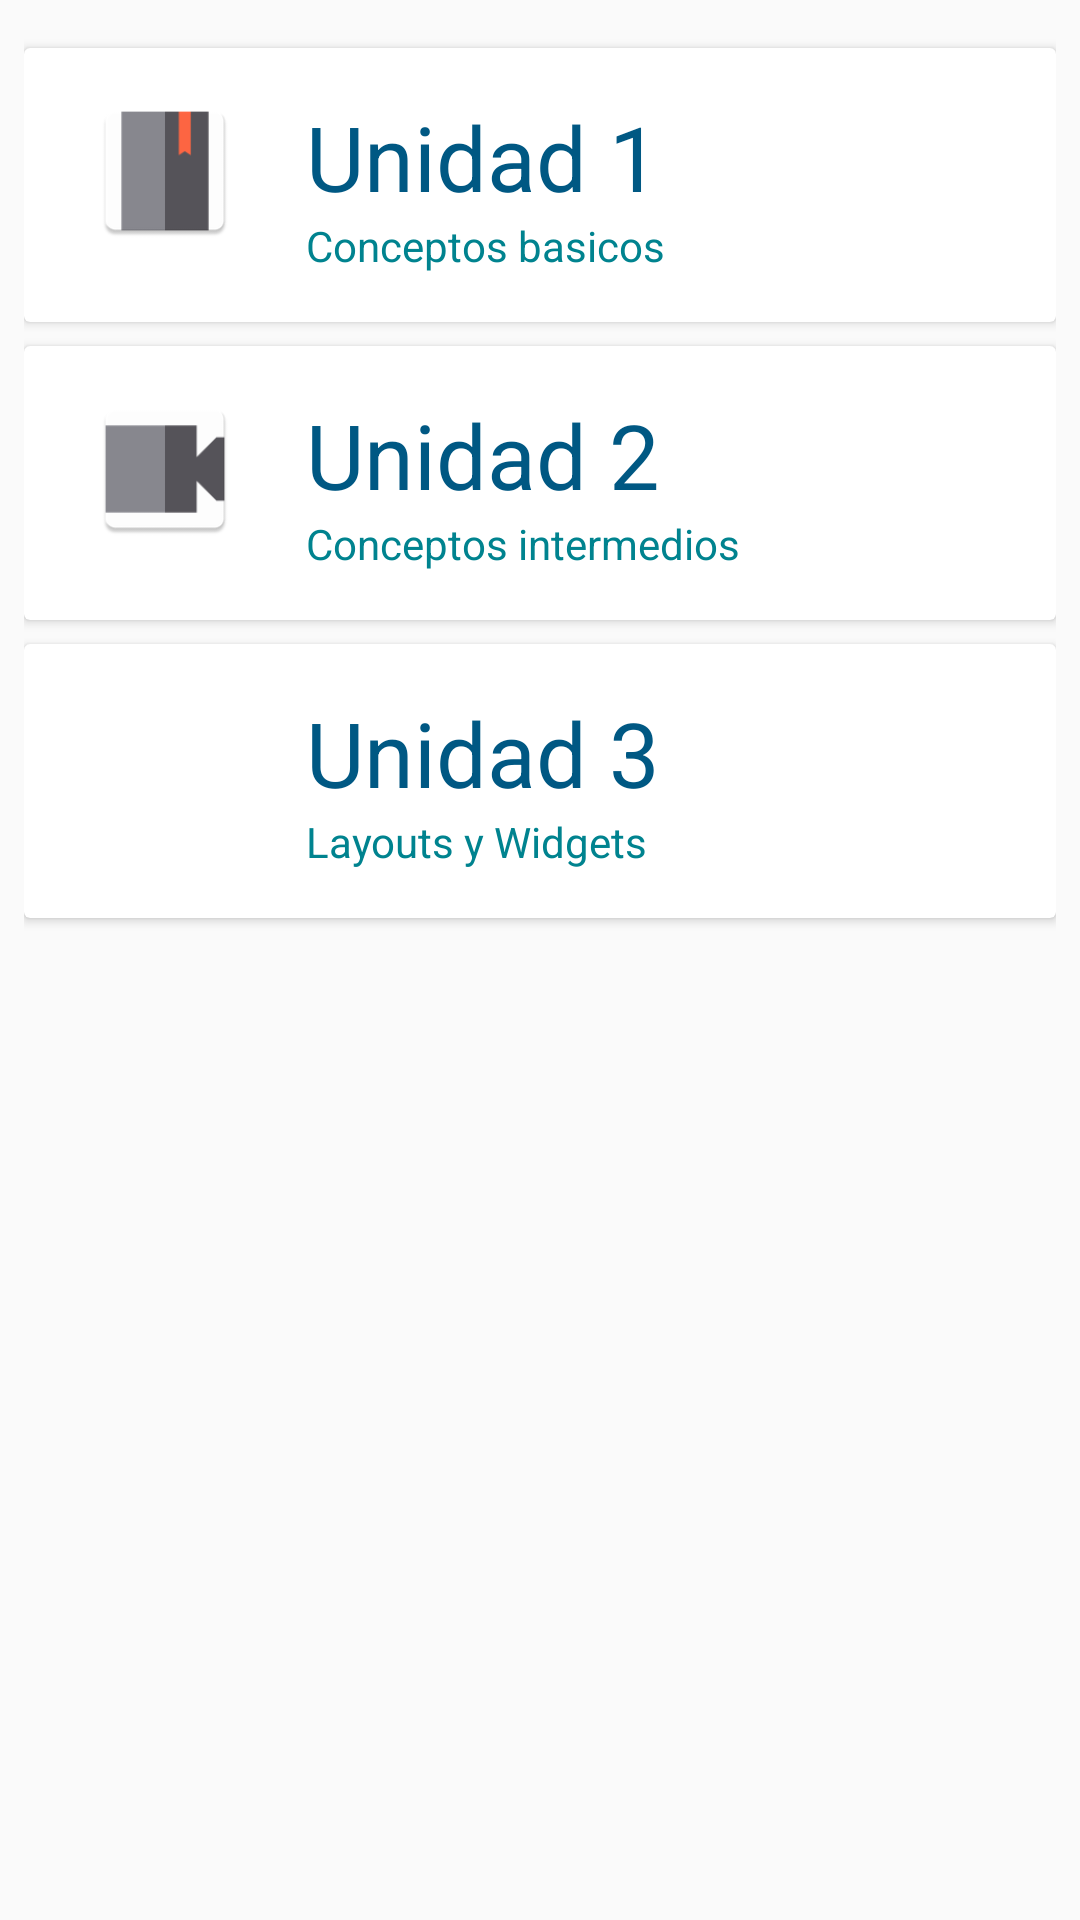

Icon click points for this 1080px x 1920px phone screenshot, format (x,y):
res doc: (165,172)
res vid: (165,476)
